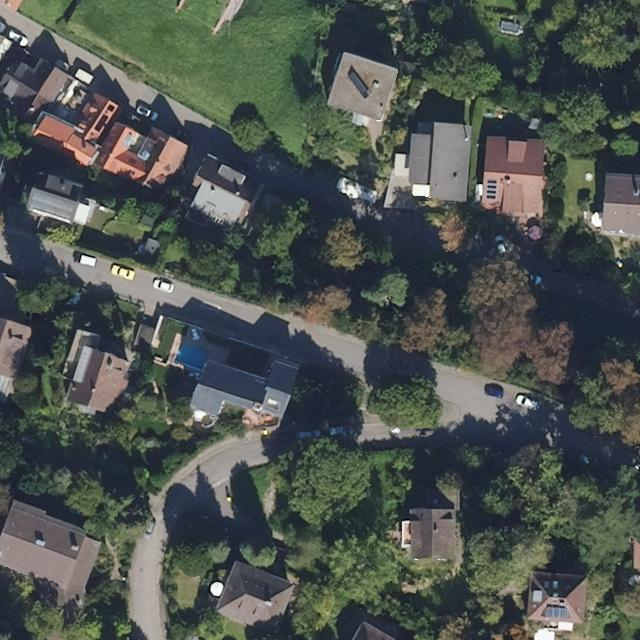PV: (544, 605, 569, 617), (486, 180, 498, 200)
